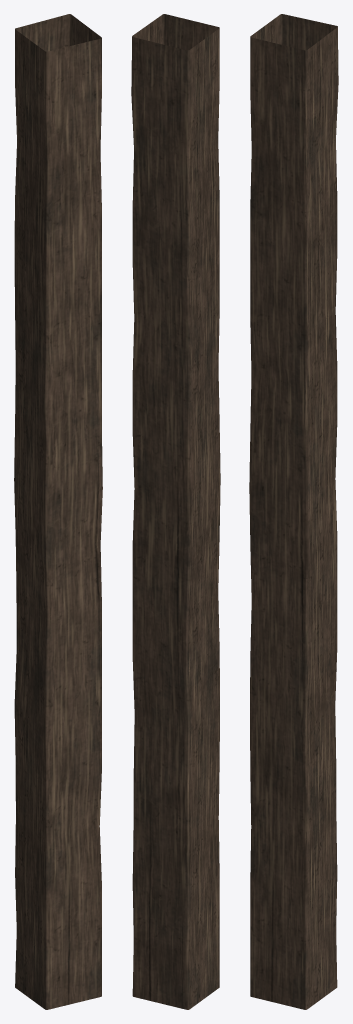
File: SM_Pole_Large_04.fbx
3 renders of one model, left to right at view 1: azimuth 30°, elevation 25°; view 2: azimuth 150°, elevation 25°; view 3: azimuth 330°, elevation 25°, orthographic.
Parts seen in each view (by area): view 1: SM_Pole_Large_04_LOD0; view 2: SM_Pole_Large_04_LOD0; view 3: SM_Pole_Large_04_LOD0.
Part boxes in pixels (x1=…): SM_Pole_Large_04_LOD0: x1=14, y1=14, x2=102, y2=1009; SM_Pole_Large_04_LOD0: x1=131, y1=14, x2=220, y2=1009; SM_Pole_Large_04_LOD0: x1=249, y1=14, x2=338, y2=1009.
Size of the model in its own units: 66.98 by 66.95 by 1050.
